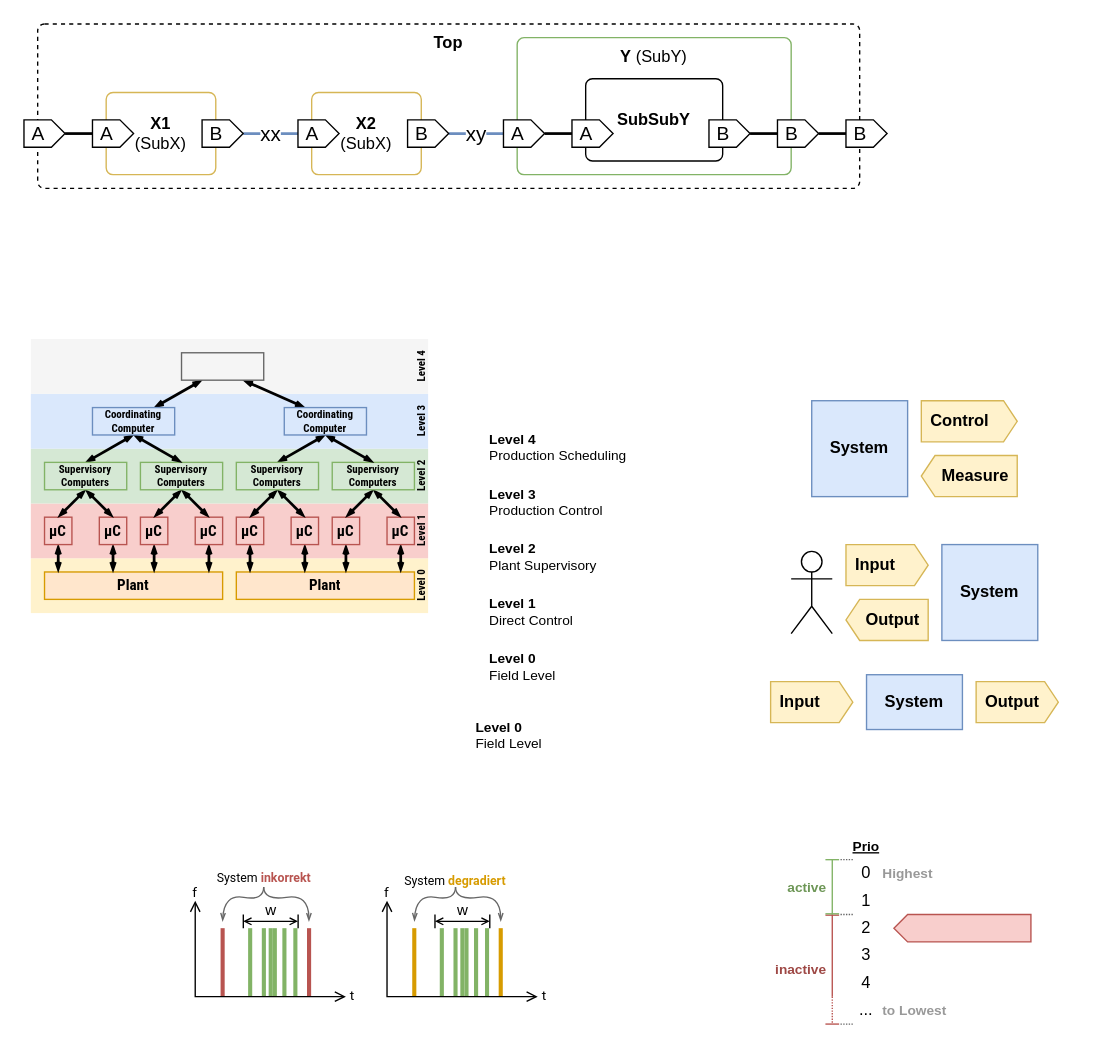
Image size: 1096x1049. Some labels were removed from this diagram. Here are the shapes that lost their labels. From the top down, the centre of each, then its label:
[222,365]: Computer Center
[962,927]: BASEPRI = 2
